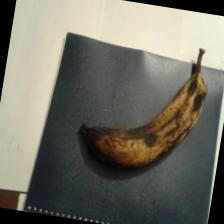Banana Rotten: (55, 37, 220, 197)
